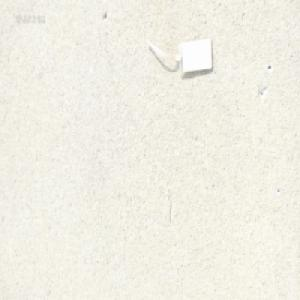LuggageTag: (142, 32, 215, 76)
